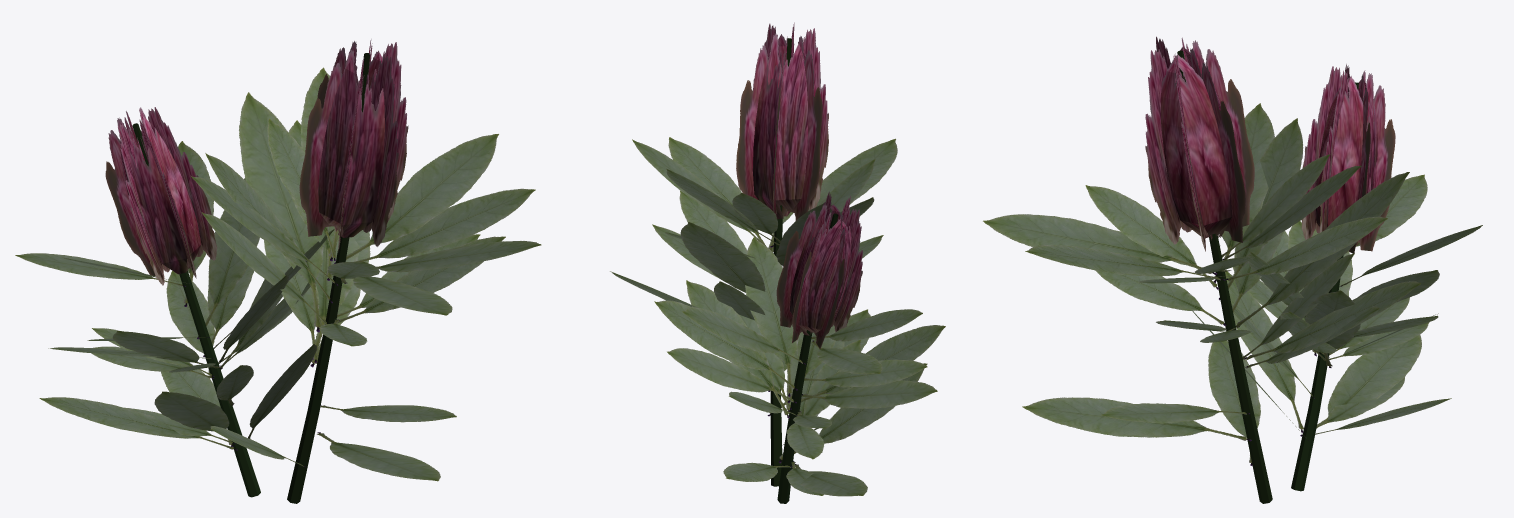
Rendered from category_mesh_flower_0_v1.glb.
3 views of the same model, side by side, from view 1: azimuth 30°, elevation 25°; view 2: azimuth 150°, elevation 25°; view 3: azimuth 270°, elevation 25° (orthographic). The views are drawn at different scales.
Parts seen in each view (by area): view 1: category_mesh_flower_0_v1; view 2: category_mesh_flower_0_v1; view 3: category_mesh_flower_0_v1.
Boxes of the visible parts, left/top/right/bottom form: category_mesh_flower_0_v1: left=15, top=39, right=541, bottom=503; category_mesh_flower_0_v1: left=610, top=22, right=945, bottom=503; category_mesh_flower_0_v1: left=983, top=36, right=1482, bottom=503.
Size of the model in its own units: 0.2852 by 0.3291 by 0.321.
1 material, 1 textured.
